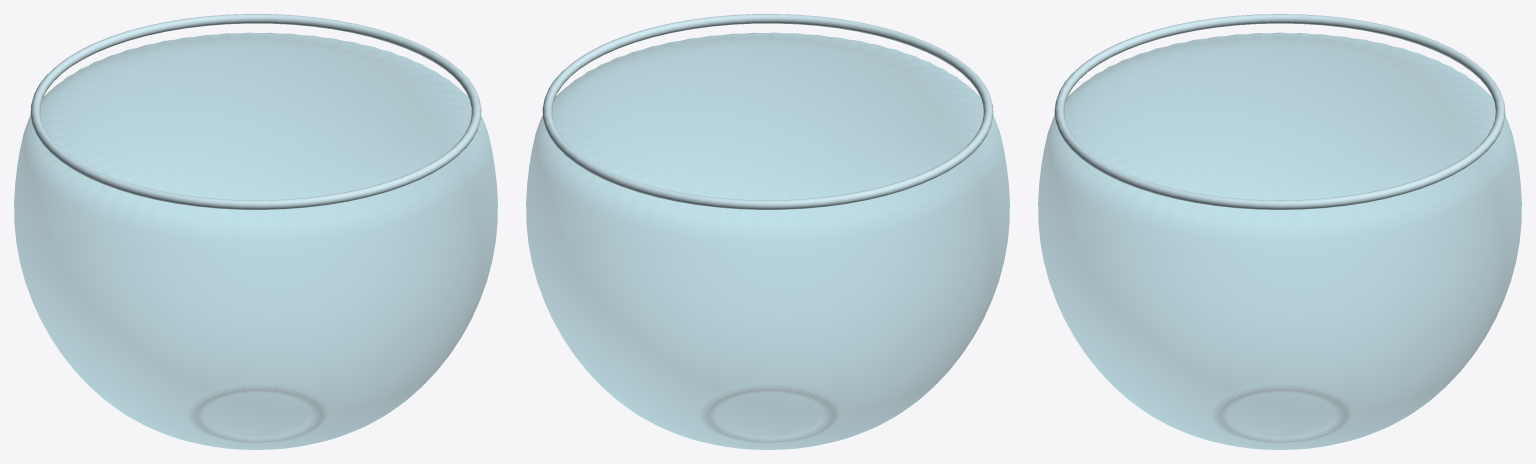
File: water.glb
3 views of the same model, side by side, from view 1: azimuth 30°, elevation 25°; view 2: azimuth 150°, elevation 25°; view 3: azimuth 270°, elevation 25° (orthographic).
Visible parts, largest first — view 1: ENV_bowl_water, ENV_waterline; view 2: ENV_bowl_water, ENV_waterline; view 3: ENV_bowl_water, ENV_waterline.
Boxes of the visible parts, bbox=[...] form: ENV_bowl_water: bbox=[14, 32, 497, 449]; ENV_waterline: bbox=[30, 14, 481, 209]; ENV_bowl_water: bbox=[526, 32, 1009, 449]; ENV_waterline: bbox=[542, 14, 993, 209]; ENV_bowl_water: bbox=[1038, 32, 1521, 449]; ENV_waterline: bbox=[1054, 14, 1505, 209].
Bounding box in the file's own units: 0.2219 × 0.1554 × 0.2219.
